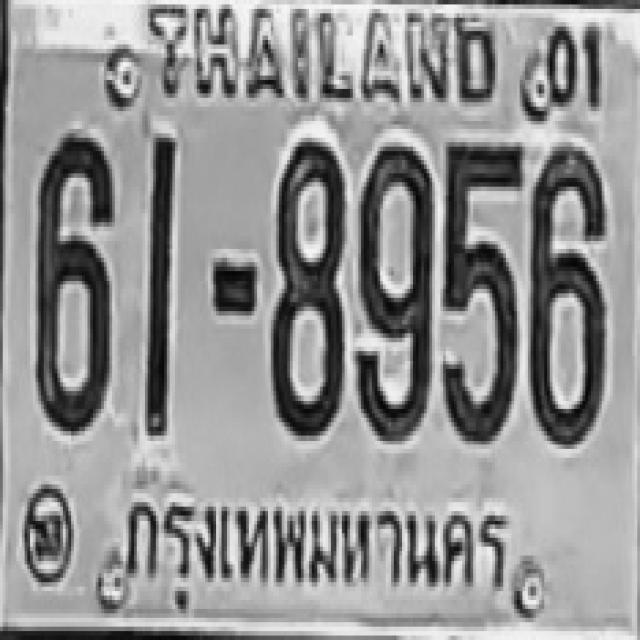1: (145, 136, 175, 434)
5: (440, 140, 522, 442)
6: (526, 144, 606, 446), (34, 131, 114, 433)
8: (270, 134, 344, 436)
9: (356, 142, 432, 440)
Bangkok: (118, 481, 529, 618)
